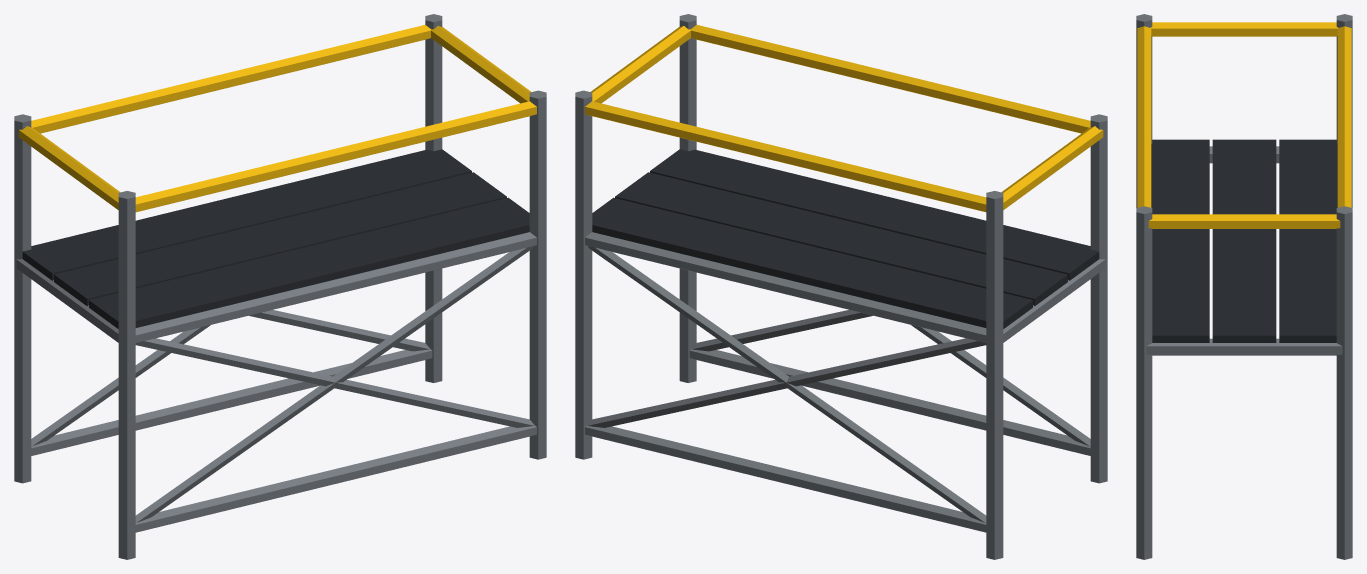
File: CONSTRUCTION_SCAFFOLD_01.glb
3 views of the same model, side by side, from view 1: azimuth 30°, elevation 25°; view 2: azimuth 150°, elevation 25°; view 3: azimuth 270°, elevation 25° (orthographic). The views are drawn at different scales.
Parts seen in each view (by area): view 1: CIVRUM_GAME_CONSTRUCTION_SCAFFOLD_01; view 2: CIVRUM_GAME_CONSTRUCTION_SCAFFOLD_01; view 3: CIVRUM_GAME_CONSTRUCTION_SCAFFOLD_01.
Boxes of the visible parts, left/top/right/bottom form: CIVRUM_GAME_CONSTRUCTION_SCAFFOLD_01: left=14, top=14, right=546, bottom=559; CIVRUM_GAME_CONSTRUCTION_SCAFFOLD_01: left=575, top=14, right=1107, bottom=559; CIVRUM_GAME_CONSTRUCTION_SCAFFOLD_01: left=1136, top=14, right=1352, bottom=559.
Bounding box in the file's own units: 2.98 × 2.4 × 1.36.
